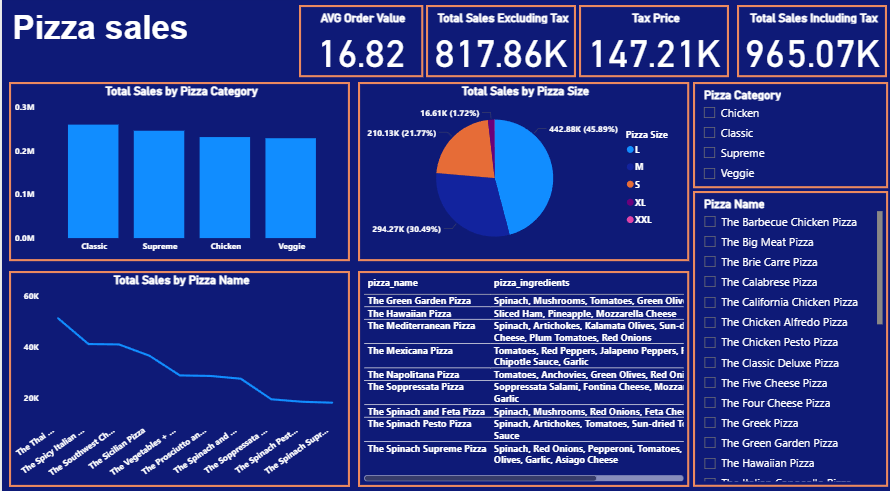

This screenshot's page, from the dashboard's own definition file:
{"tool":"powerbi","page":{"name":"Page 1","canvas":[1280,720],"ordinal":0},"visuals":[{"type":"textbox","box":[10.1,13.4,280.5,84],"z":0},{"type":"card","title":"AVG Order Value","fields":{"Values":["Avg(pizza_sales.total_price)"]},"box":[427.2,13,178.6,103.7],"z":1},{"type":"card","title":"Total Sales Excluding Tax","fields":{"Values":["Sum(pizza_sales.total_price)"]},"box":[610.1,13,216,103.7],"z":2},{"type":"card","title":"Tax Price","fields":{"Values":["Sum(pizza_sales.tax)"]},"box":[830.4,13,216,103.7],"z":3},{"type":"card","title":"Total Sales Including Tax","fields":{"Values":["Sum(pizza_sales.Total_Sales)"]},"box":[1057.9,13,216,103.7],"z":4},{"type":"slicer","fields":{"Values":["pizza_sales.pizza_category"]},"box":[995,123.8,280.8,152.6],"z":5},{"type":"slicer","fields":{"Values":["pizza_sales.pizza_name"]},"box":[995,280.8,280.8,426.2],"z":6},{"type":"clusteredColumnChart","title":"Total Sales by Pizza Category","fields":{"Y":["Sum(pizza_sales.Total_Sales)"],"Category":["pizza_sales.pizza_category"]},"box":[10.1,123.8,491,257.8],"z":7},{"type":"lineChart","title":"Total Sales by Pizza Name","fields":{"Category":["pizza_sales.pizza_name"],"Y":["Sum(pizza_sales.Total_Sales)"]},"box":[10.1,396,491,311],"z":8},{"type":"pieChart","title":" Total Sales by Pizza Size","fields":{"Category":["pizza_sales.pizza_size"],"Y":["Sum(pizza_sales.Total_Sales)"]},"box":[512.6,123.8,476.6,257.8],"z":9},{"type":"tableEx","fields":{"Values":["pizza_sales.pizza_name","pizza_sales.pizza_ingredients"]},"box":[513,396,477,311],"z":10}]}

Visuals, with their boxes in screenshot pixels (x1, y1, x2, y2), scaled from the page's 1280x720 canvas onto the 890x491 screenshot:
textbox: bbox=(7, 9, 202, 66)
"AVG Order Value" card: bbox=(297, 9, 421, 80)
"Total Sales Excluding Tax" card: bbox=(424, 9, 574, 80)
"Tax Price" card: bbox=(577, 9, 728, 80)
"Total Sales Including Tax" card: bbox=(736, 9, 886, 80)
slicer - pizza_sales.pizza_category: bbox=(692, 84, 887, 188)
slicer - pizza_sales.pizza_name: bbox=(692, 191, 887, 482)
"Total Sales by Pizza Category" clusteredColumnChart: bbox=(7, 84, 348, 260)
"Total Sales by Pizza Name" lineChart: bbox=(7, 270, 348, 482)
" Total Sales by Pizza Size" pieChart: bbox=(356, 84, 688, 260)
tableEx - pizza_sales.pizza_name x pizza_sales.pizza_ingredients: bbox=(357, 270, 688, 482)
